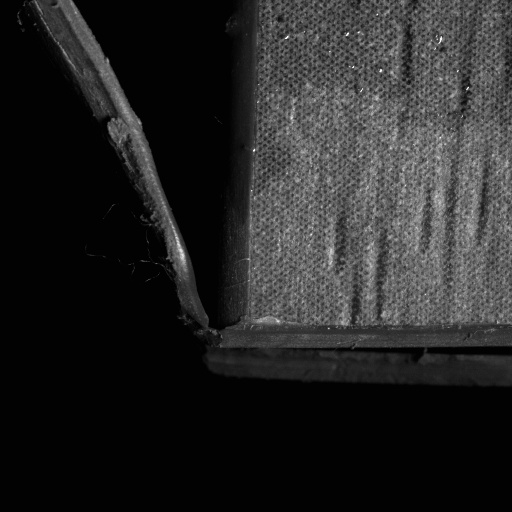kaijiao: (36, 0, 253, 341), (214, 327, 511, 394)
